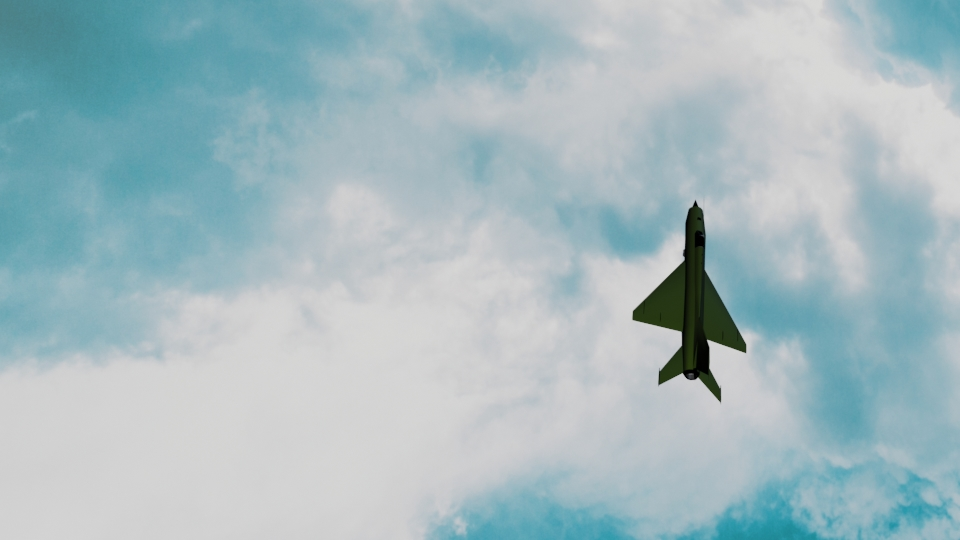plane: (630, 198, 749, 397)
